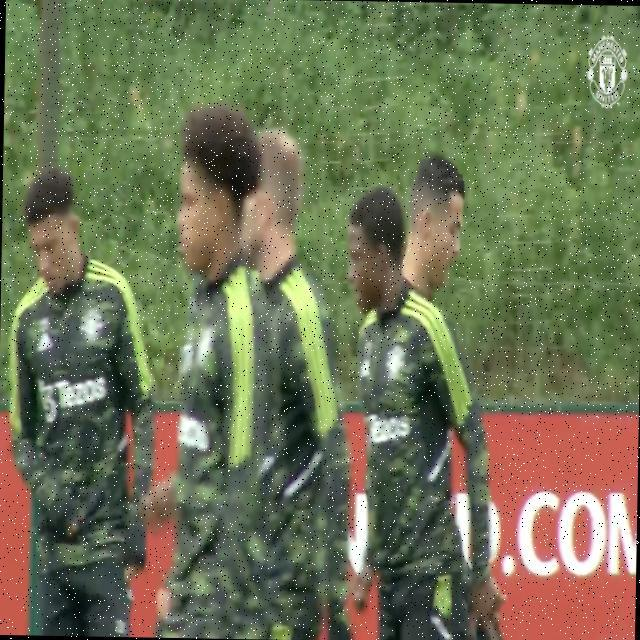Adidas: (37, 330, 52, 353)
